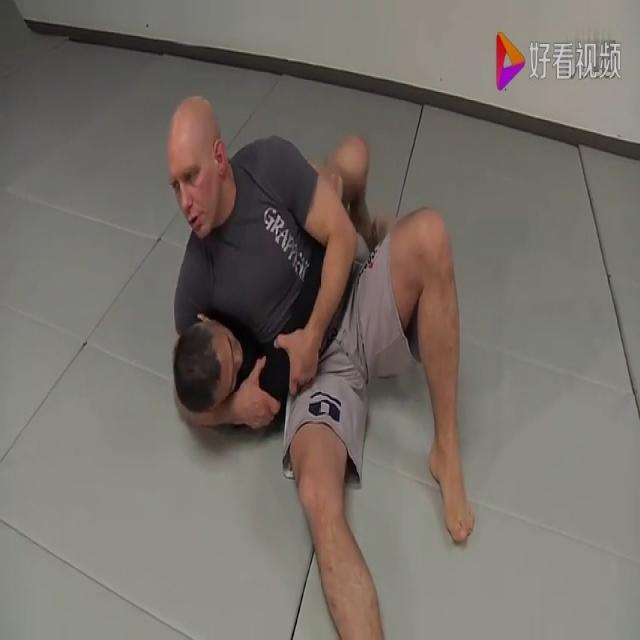fight: (146, 84, 486, 639)
